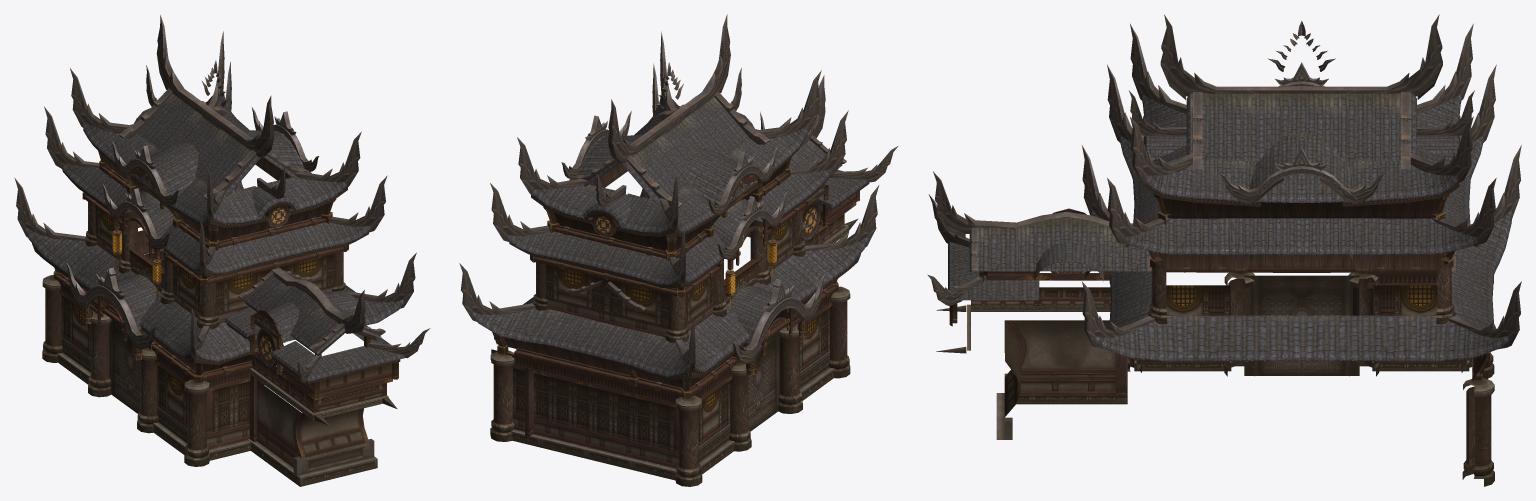
3 renders of one model, left to right at view 1: azimuth 30°, elevation 25°; view 2: azimuth 150°, elevation 25°; view 3: azimuth 270°, elevation 25°, orthographic. The views are drawn at different scales.
Parts seen in each view (by area): view 1: 58004_01_01; view 2: 58004_01_01; view 3: 58004_01_01.
Boxes of the visible parts, left/top/right/bottom form: 58004_01_01: left=14, top=15, right=430, bottom=486; 58004_01_01: left=459, top=14, right=897, bottom=486; 58004_01_01: left=927, top=14, right=1521, bottom=486.
Size of the model in its own units: 1291 by 1822 by 2374.
